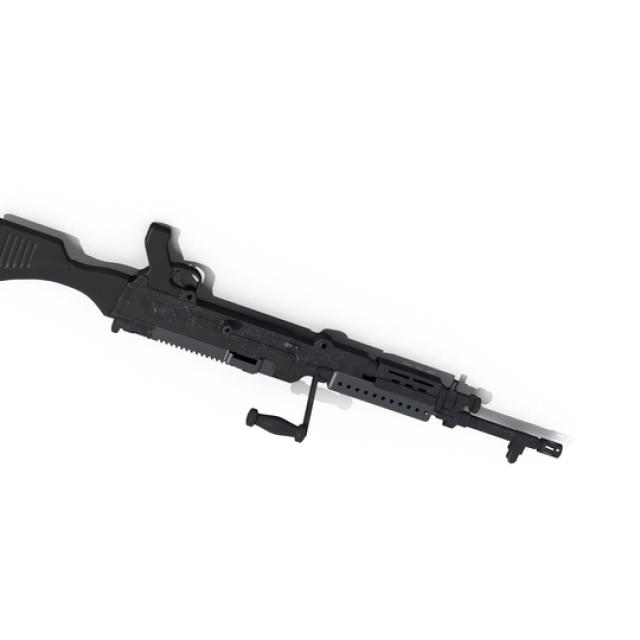Gun: (0, 173, 588, 460)
